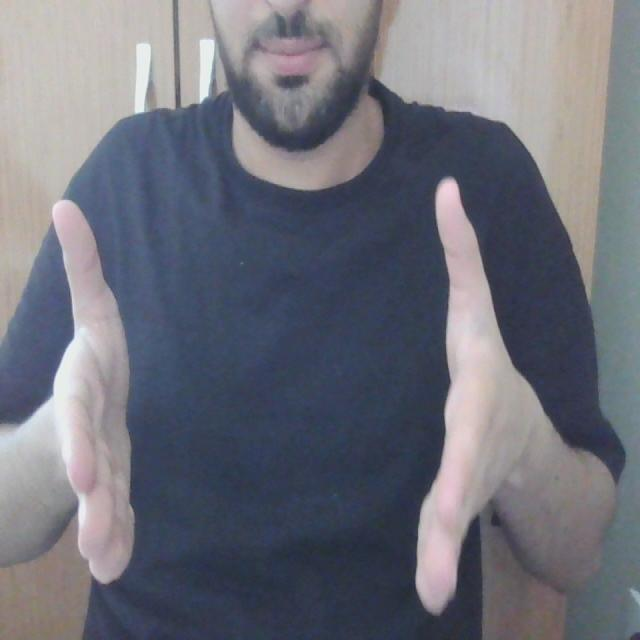Nasil: (45, 171, 506, 620)
